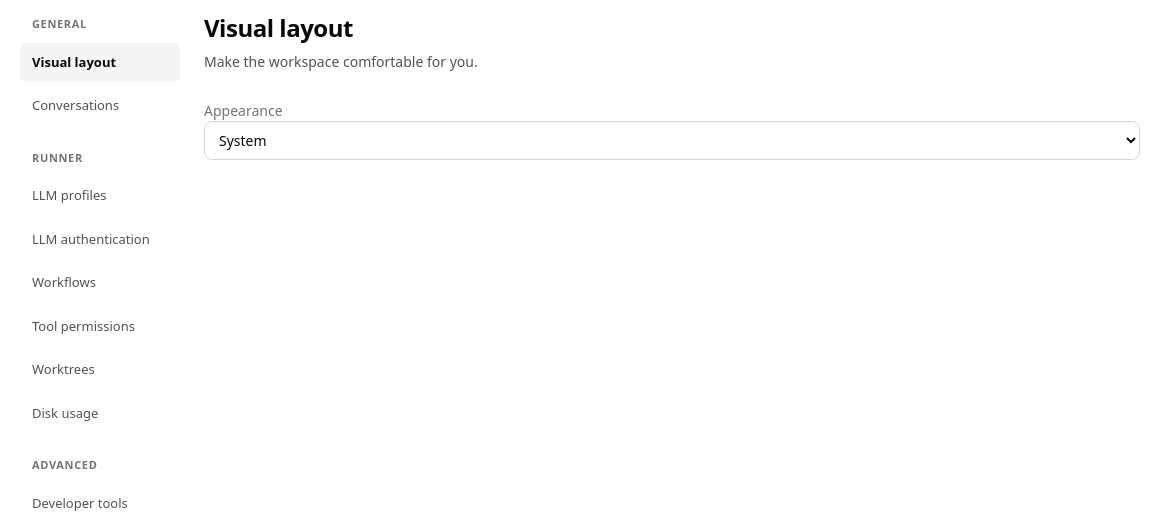
Test: profile settings require a runner connection
What coordinates should you click on to do the following:
click the button "LLM profiles"
I would click on:
 (100, 196)
Its box is top-left (20, 176), bottom-right (180, 216).
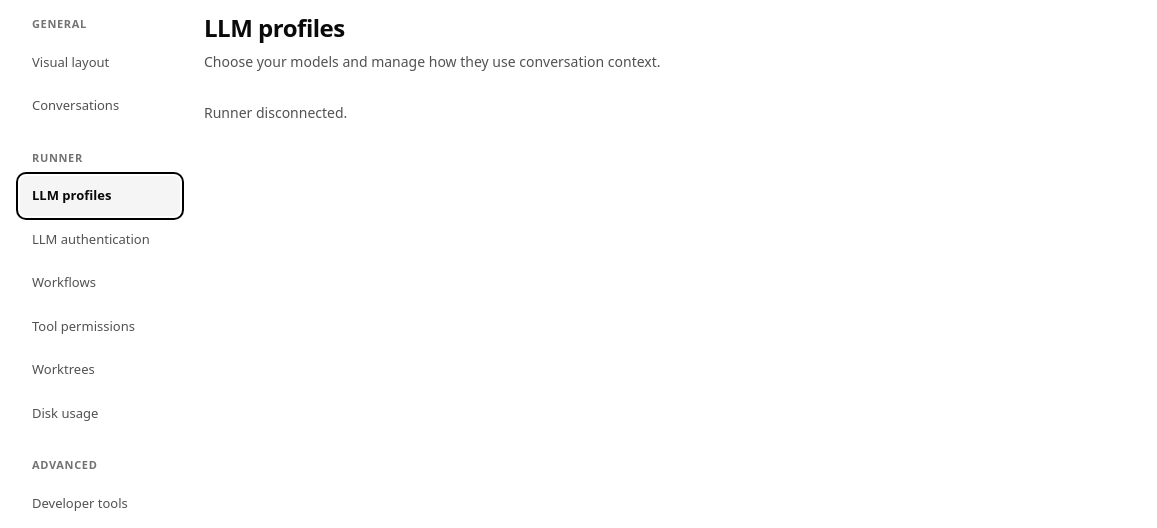
Check: the message shows "Runner disconnected", box top-left (204, 103), bottom-right (347, 122)
